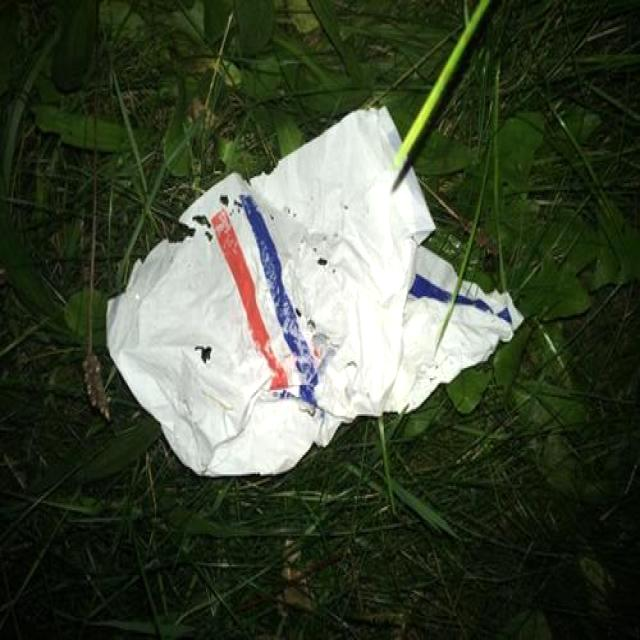Paper: (103, 99, 525, 481)
